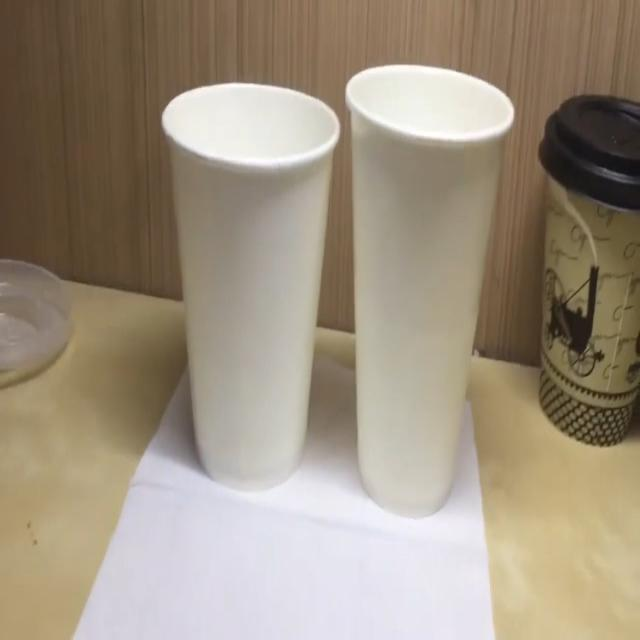cup: (345, 67, 517, 522), (161, 86, 346, 496), (537, 94, 640, 451)
